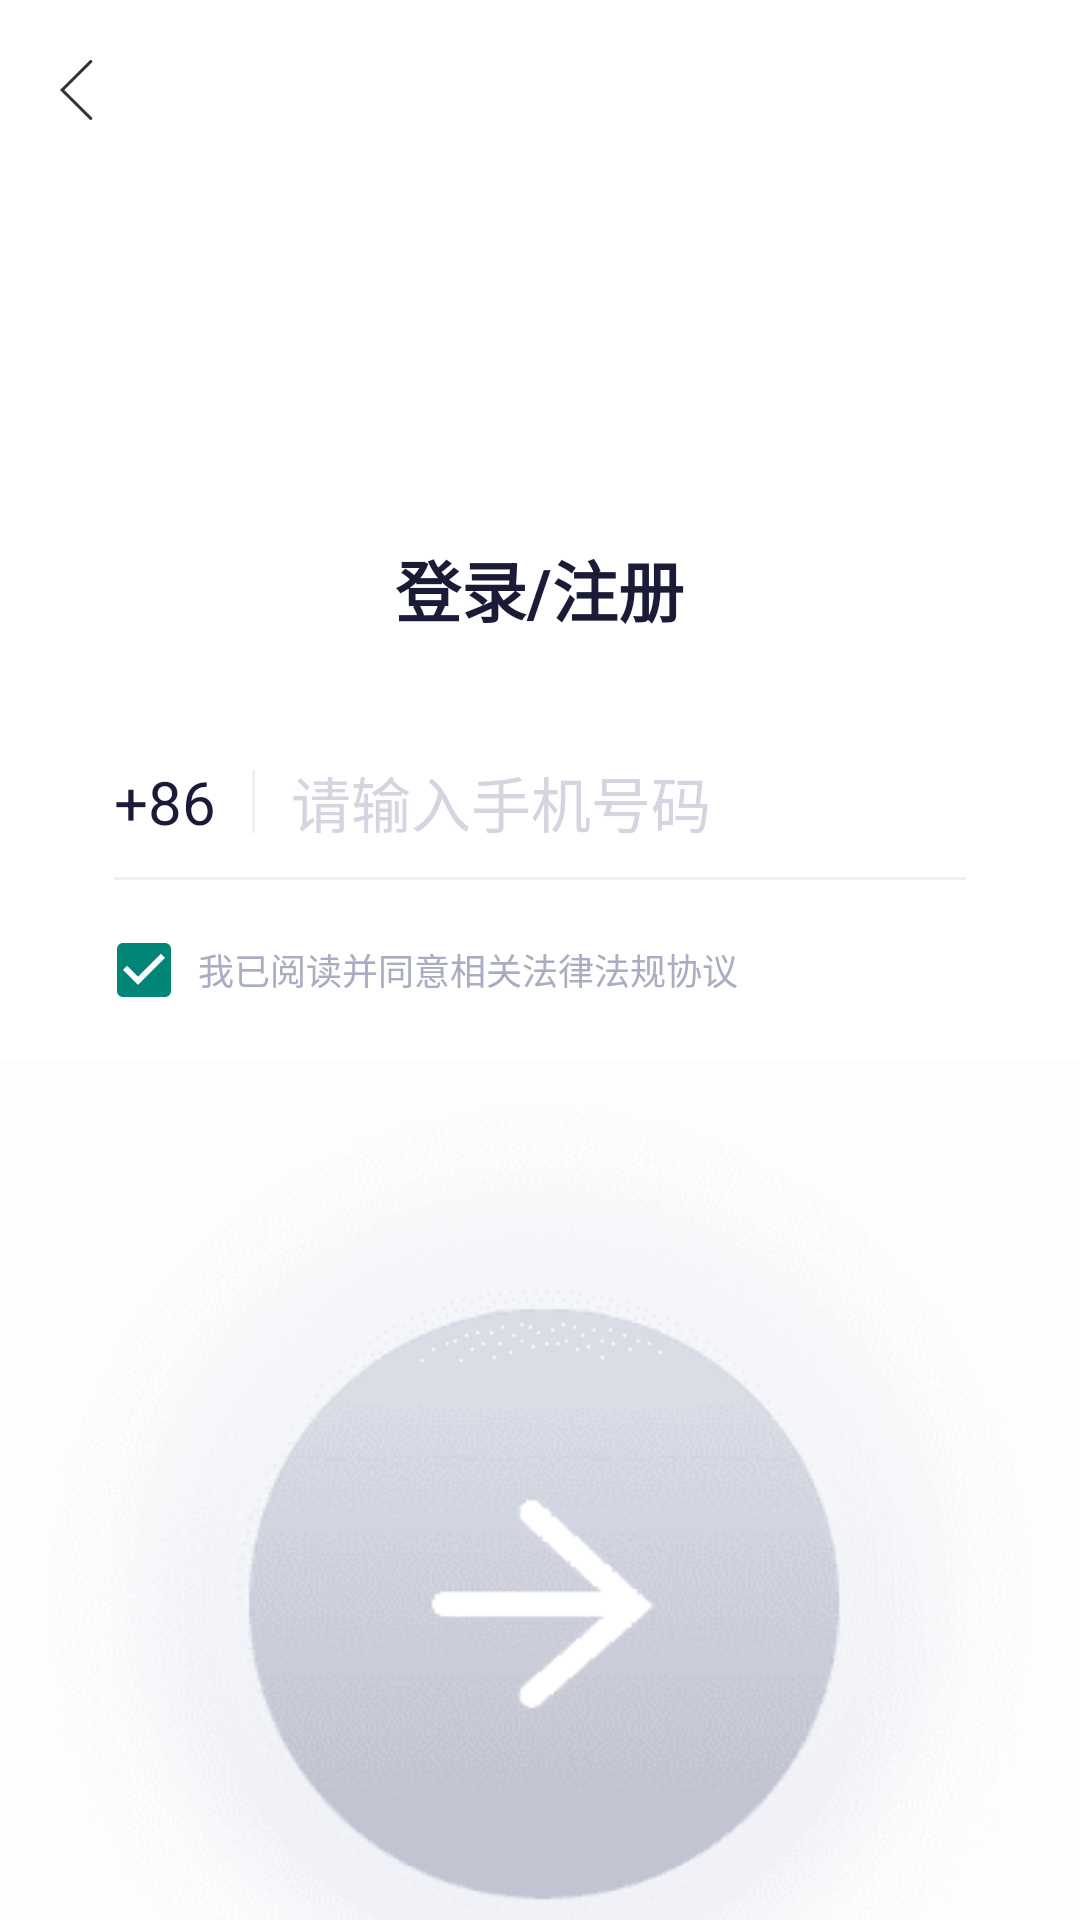

Icons on this 1080*1920 Android screen, each with the point to tap as [x,y]:
back: [76,90]
